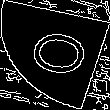O_E: (17, 27, 93, 83)
